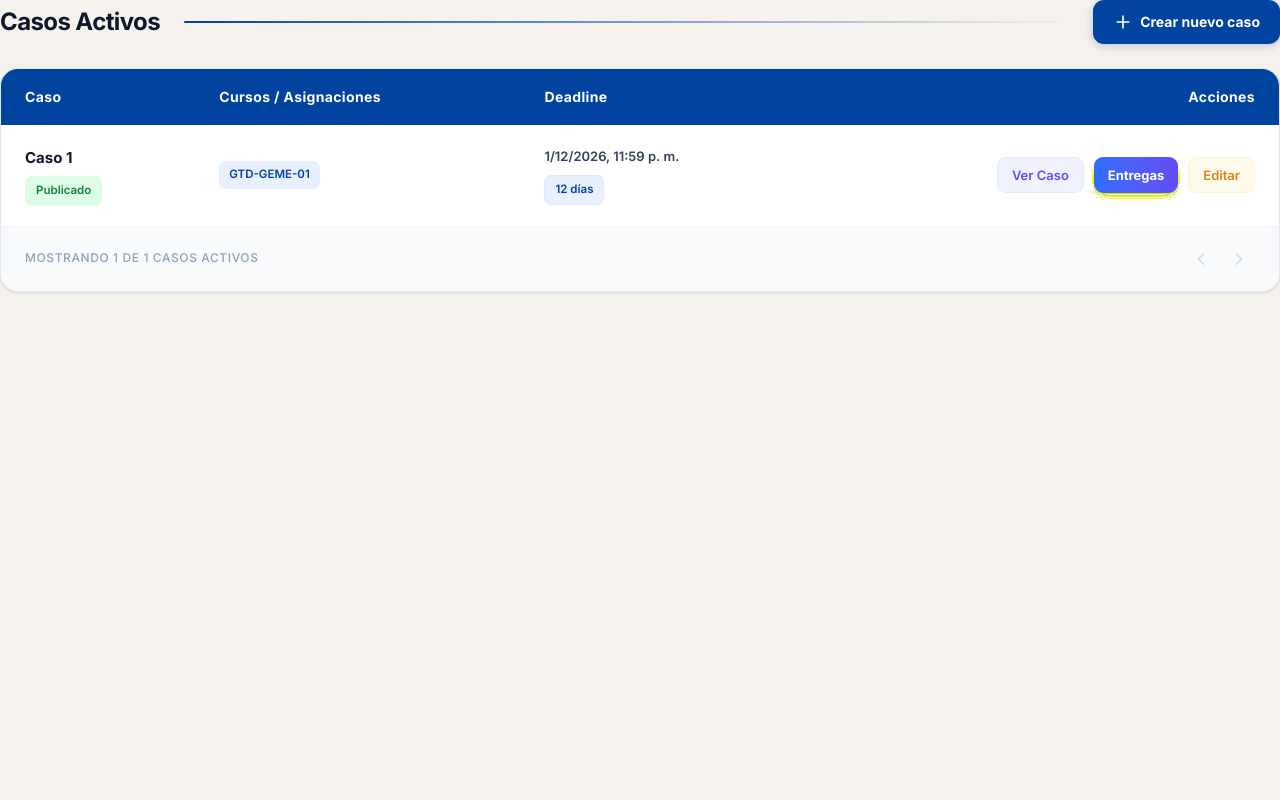
CasosActivosSection › click 'Editar' renders DeadlineEditModal with correct props
Click the button "Editar": (1222, 175) [1188,157,1255,193]
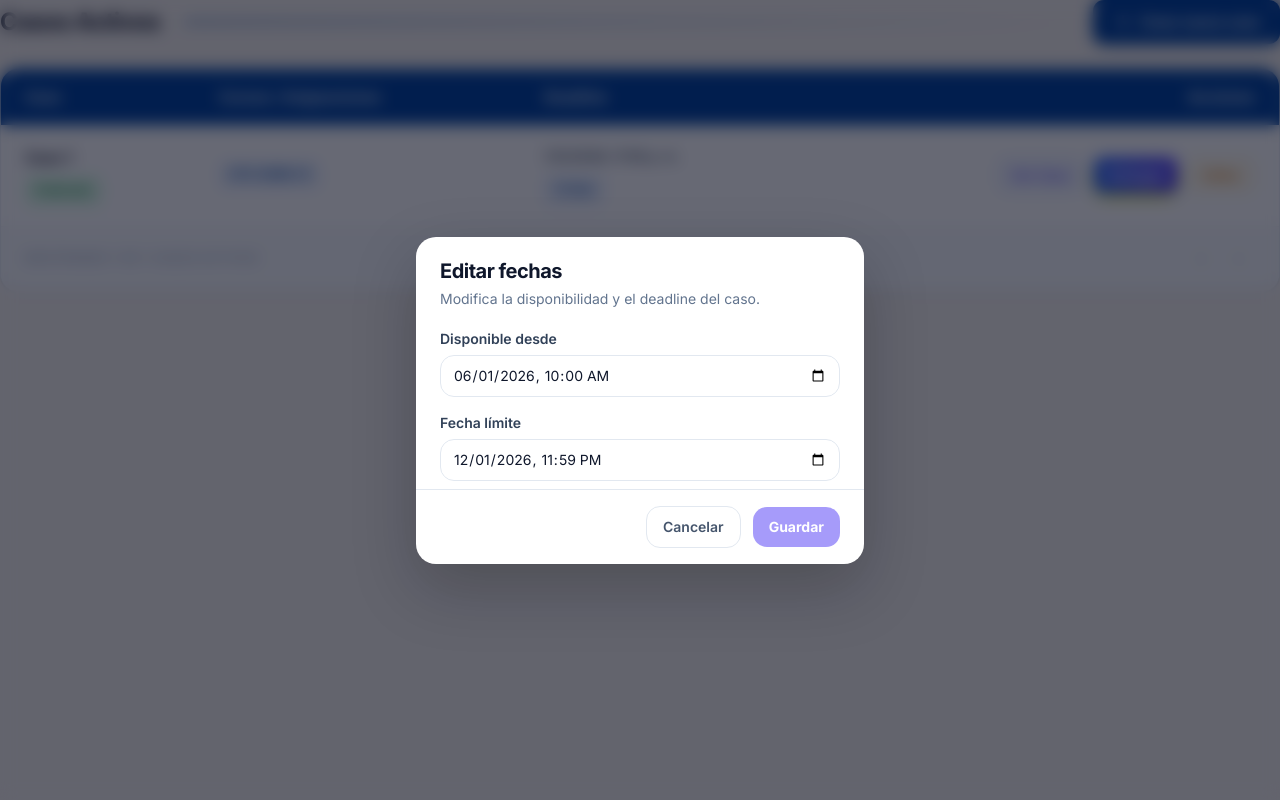
Expected: the heading "Editar fechas" is shown, [440,258,562,282]
Expected: the field labelled "Disponible desde" holds "2026-06-01T10:00", [440,354,840,396]
Expected: the field labelled "Fecha límite" holds "2026-12-01T23:59", [440,438,840,480]
